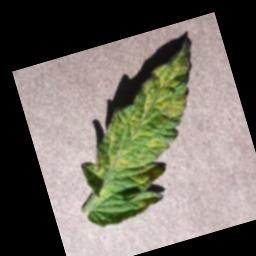Leaf_Mold: (45, 39, 233, 230)
